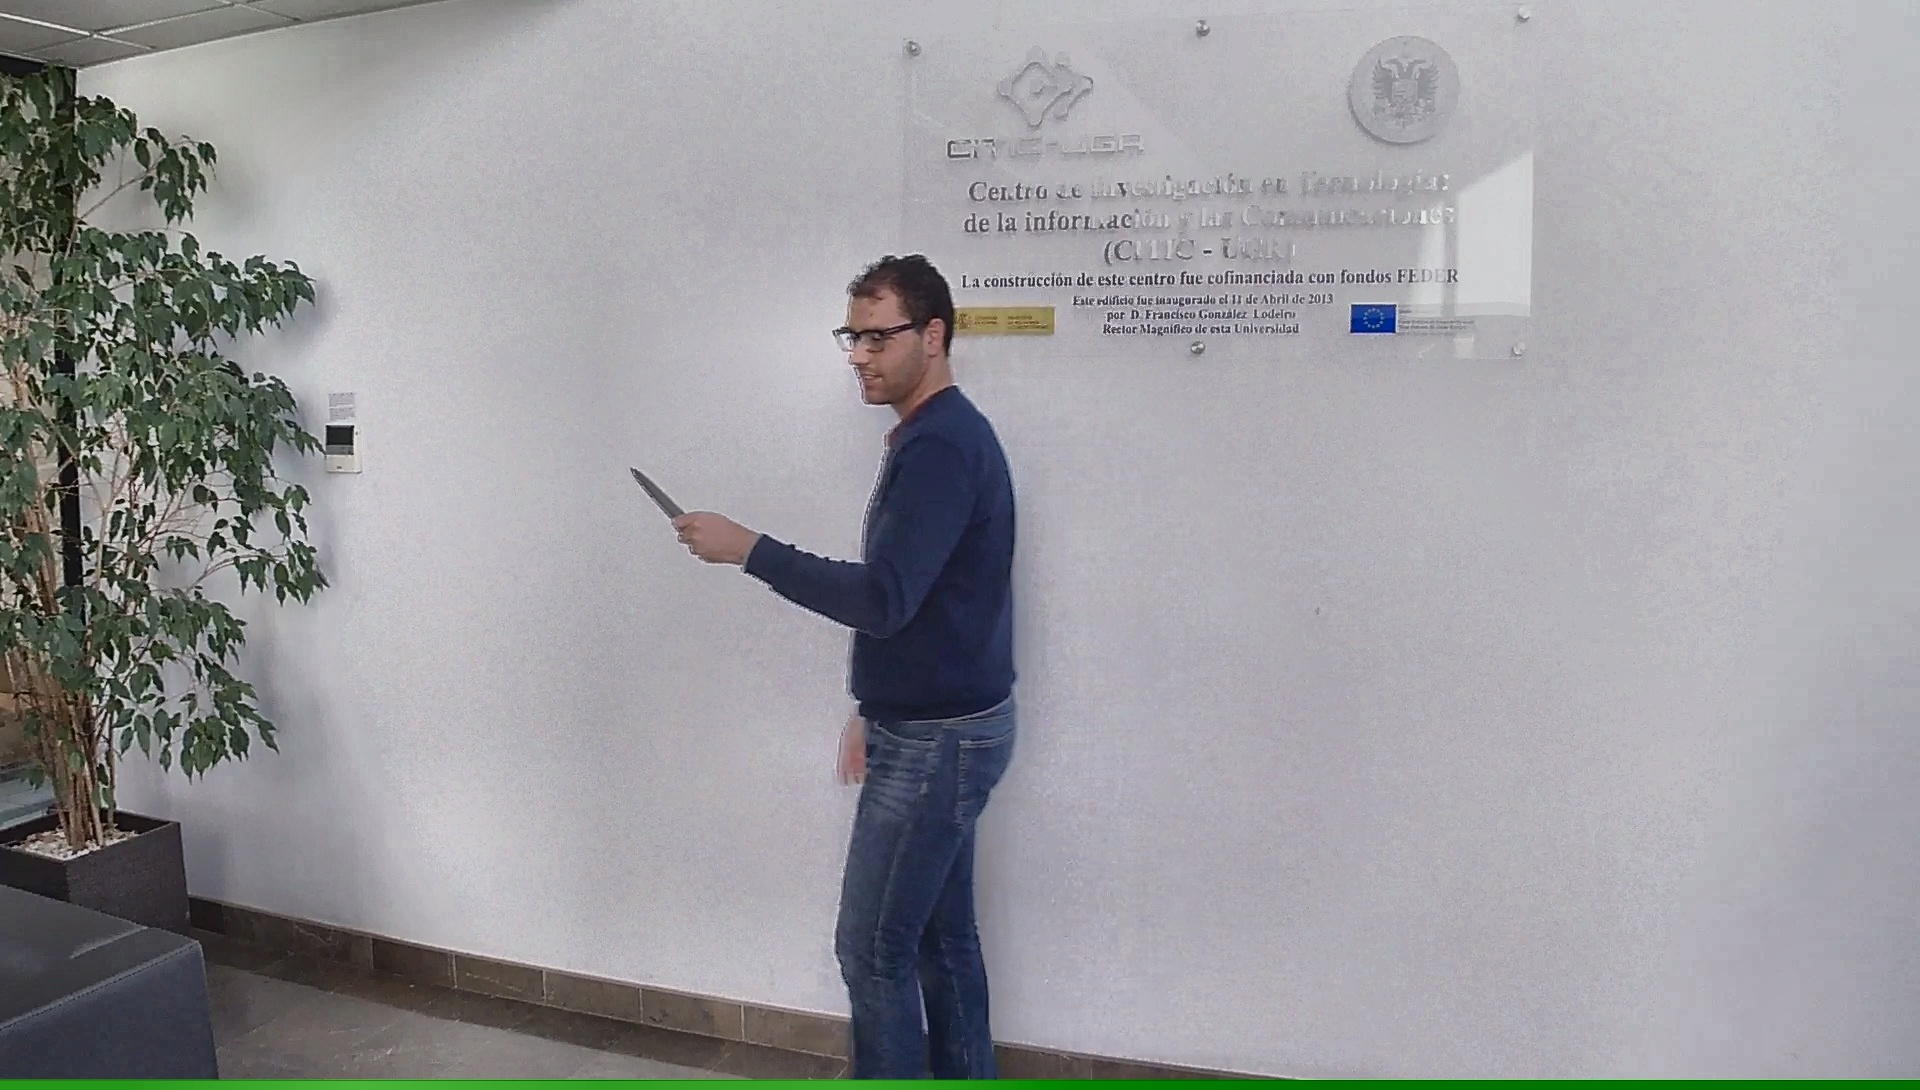knife: (621, 457, 713, 554)
